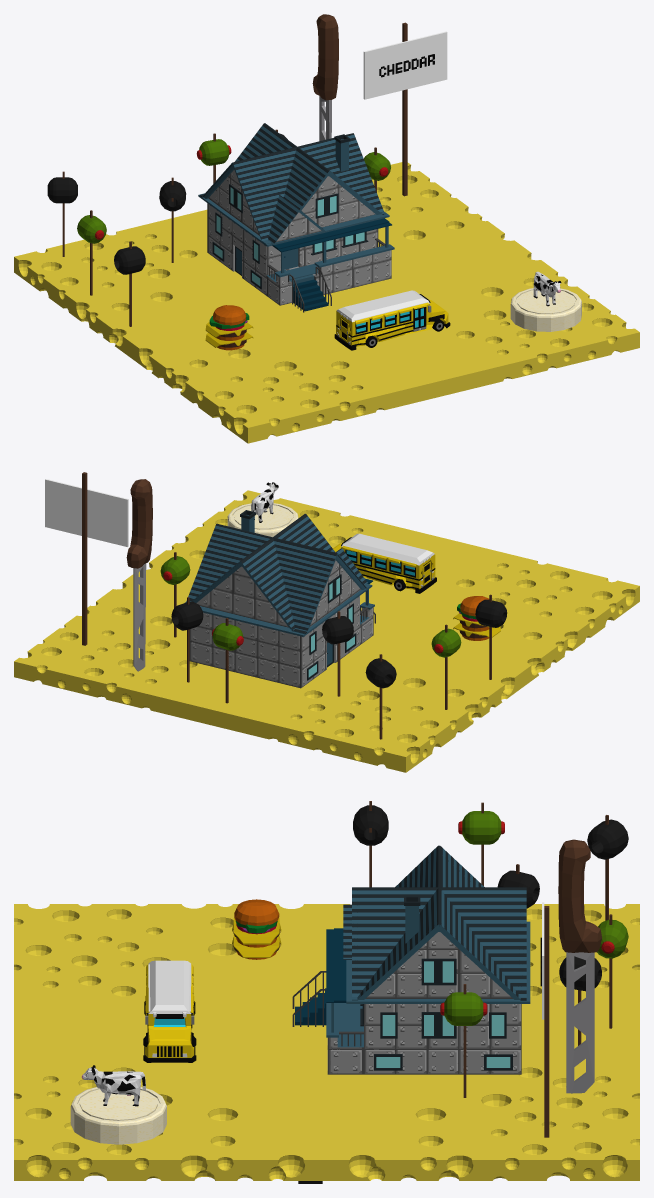
3 views of the same model, one above another, from view 1: azimuth 30°, elevation 25°; view 2: azimuth 150°, elevation 25°; view 3: azimuth 270°, elevation 25° (orthographic). The views are drawn at different scales.
Visible parts, largest first — view 1: Cube.022, Cube.078, Cube.023, VEHICLES_SCHOOL_BUS, Cylinder.016, Cube.024, OBJRANDOM_HAMBURGER, Sphere.017, Sphere.016, Sphere.020, Sphere.018, Sphere.022 (+1 smaller); view 2: Cube.022, Cube.078, Cube.023, VEHICLES_SCHOOL_BUS, Cube.024, Cylinder.016, OBJRANDOM_HAMBURGER, Sphere.020, Sphere.016, Sphere.022, Sphere.017, Sphere.021 (+3 smaller); view 3: Cube.022, Cube.078, Cube.024, VEHICLES_SCHOOL_BUS, Cylinder.016, OBJRANDOM_HAMBURGER, Cube.023, Sphere.019, Sphere.016, Sphere.018, ANIMAL_VACA, Sphere.017 (+3 smaller).
Part boxes in pixels (x1=…): Cube.022: x1=14, y1=162, x2=639, y2=443; Cube.078: x1=198, y1=123, x2=394, y2=312; Cube.023: x1=363, y1=22, x2=447, y2=196; VEHICLES_SCHOOL_BUS: x1=334, y1=290, x2=450, y2=350; Cylinder.016: x1=510, y1=288, x2=581, y2=331; Cube.024: x1=312, y1=14, x2=338, y2=141; OBJRANDOM_HAMBURGER: x1=205, y1=305, x2=253, y2=350; Sphere.017: x1=114, y1=241, x2=145, y2=326; Sphere.016: x1=47, y1=171, x2=77, y2=256; Sphere.020: x1=159, y1=177, x2=186, y2=262; Sphere.018: x1=77, y1=210, x2=106, y2=295; Sphere.022: x1=196, y1=133, x2=231, y2=183; Cube.022: x1=14, y1=490, x2=639, y2=772; Cube.078: x1=185, y1=510, x2=375, y2=688; Cube.023: x1=45, y1=472, x2=128, y2=645; VEHICLES_SCHOOL_BUS: x1=333, y1=533, x2=436, y2=593; Cube.024: x1=126, y1=479, x2=152, y2=671; Cylinder.016: x1=227, y1=503, x2=298, y2=537; OBJRANDOM_HAMBURGER: x1=453, y1=596, x2=500, y2=640; Sphere.020: x1=322, y1=611, x2=353, y2=696; Sphere.016: x1=365, y1=654, x2=396, y2=739; Sphere.022: x1=212, y1=618, x2=243, y2=703; Sphere.017: x1=475, y1=594, x2=507, y2=679; Sphere.021: x1=171, y1=597, x2=203, y2=682; Cube.022: x1=14, y1=904, x2=639, y2=1180; Cube.078: x1=292, y1=845, x2=530, y2=1074; Cube.024: x1=558, y1=839, x2=601, y2=1093; VEHICLES_SCHOOL_BUS: x1=143, y1=960, x2=196, y2=1062; Cylinder.016: x1=70, y1=1087, x2=166, y2=1144; OBJRANDOM_HAMBURGER: x1=232, y1=899, x2=281, y2=959; Cube.023: x1=540, y1=902, x2=549, y2=1137; Sphere.019: x1=440, y1=984, x2=487, y2=1097; Sphere.016: x1=587, y1=815, x2=628, y2=920; Sphere.018: x1=458, y1=802, x2=504, y2=885; ANIMAL_VACA: x1=81, y1=1065, x2=145, y2=1106; Sphere.017: x1=353, y1=801, x2=388, y2=887.
Bounding box in the file's own units: 3917 × 2015 × 4000.
38 materials, 5 textured.
